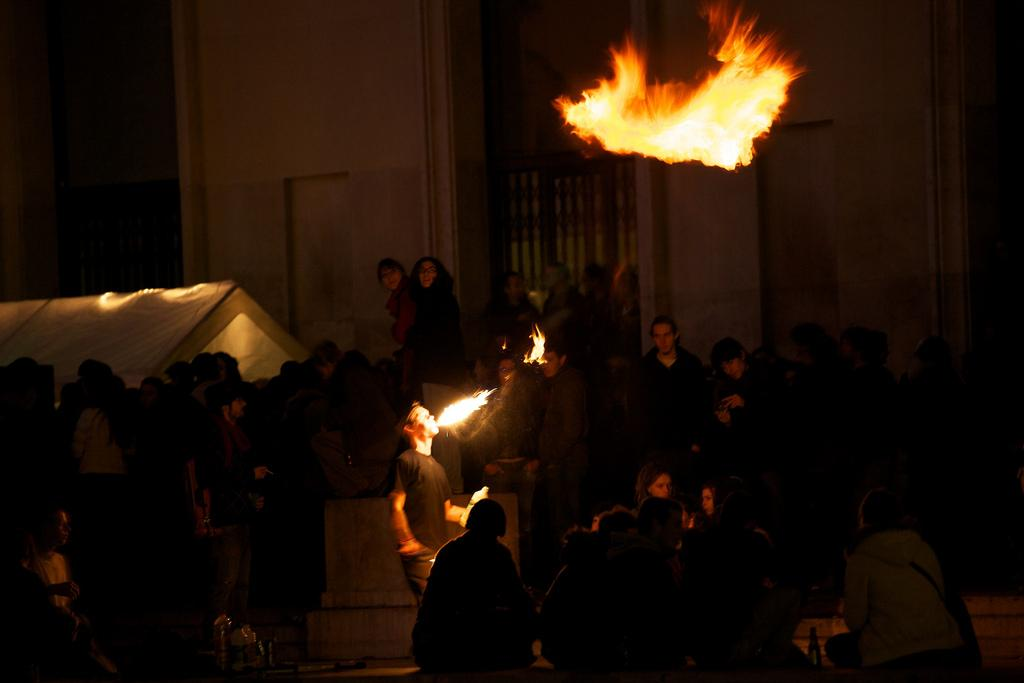fire: (625, 83, 742, 162)
